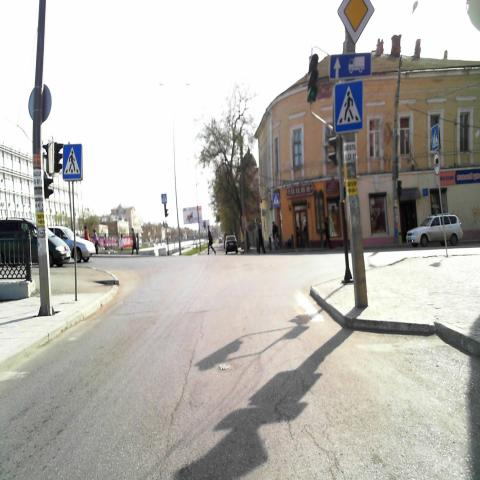3_4_1: (432, 153, 442, 174)
6_15_1: (329, 53, 371, 79)
